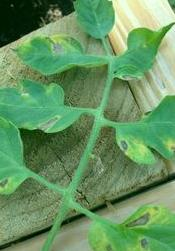Tomato Early blight leaf: (0, 78, 86, 134), (112, 13, 175, 85), (112, 99, 175, 165), (90, 204, 175, 251), (7, 36, 102, 75)
Tomato leaf: (72, 0, 119, 39)
